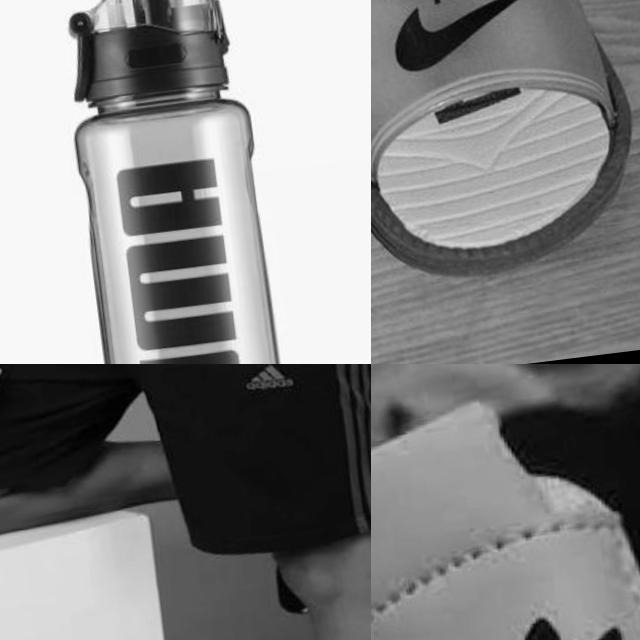ADIDAS_fake: (371, 569, 640, 640)
ADIDAS_original: (235, 364, 308, 408)
NIKE_fake: (371, 0, 579, 87)
PUMA_original: (89, 109, 272, 364)
